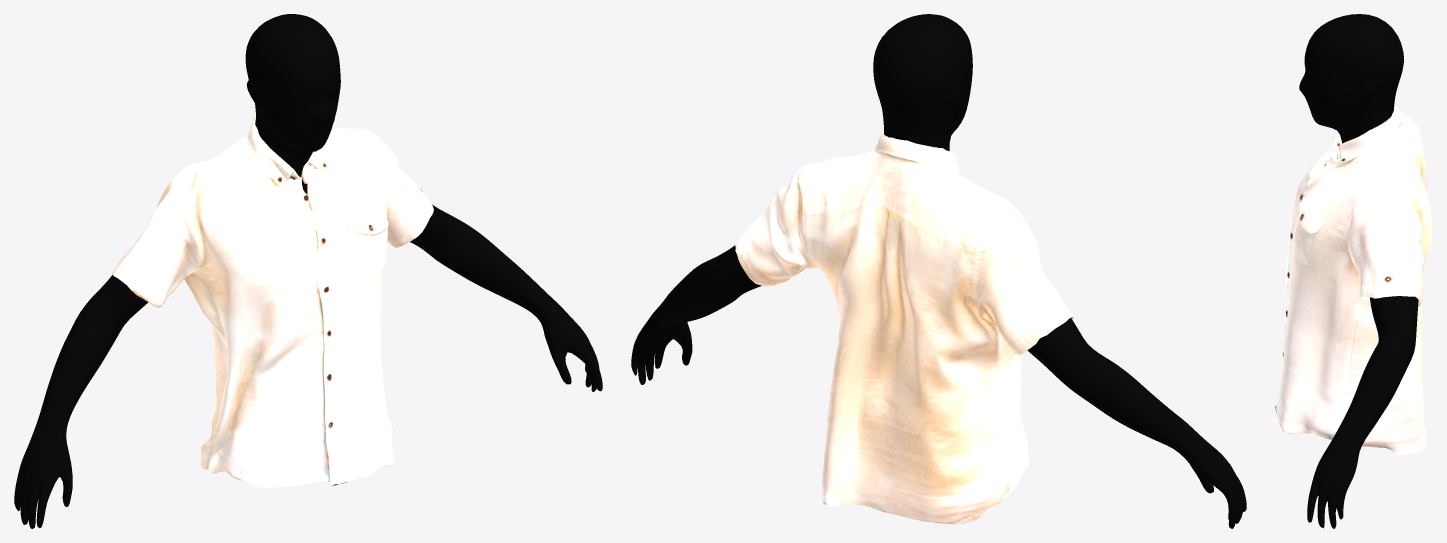
The model's file is human.glb.
3 views of the same model, side by side, from view 1: azimuth 30°, elevation 25°; view 2: azimuth 150°, elevation 25°; view 3: azimuth 270°, elevation 25° (orthographic). The views are drawn at different scales.
Parts seen in each view (by area): view 1: Object_2, Object_3; view 2: Object_2, Object_3; view 3: Object_2, Object_3.
Part boxes in pixels (left/top/right/bottom): Object_2: left=112, top=114, right=433, bottom=487; Object_3: left=14, top=14, right=602, bottom=528; Object_2: left=735, top=133, right=1073, bottom=524; Object_3: left=631, top=14, right=1246, bottom=528; Object_2: left=1275, top=104, right=1432, bottom=455; Object_3: left=1299, top=14, right=1418, bottom=528.
Bounding box in the file's own units: 124 × 92.54 × 32.38.
2 materials, 1 textured.
